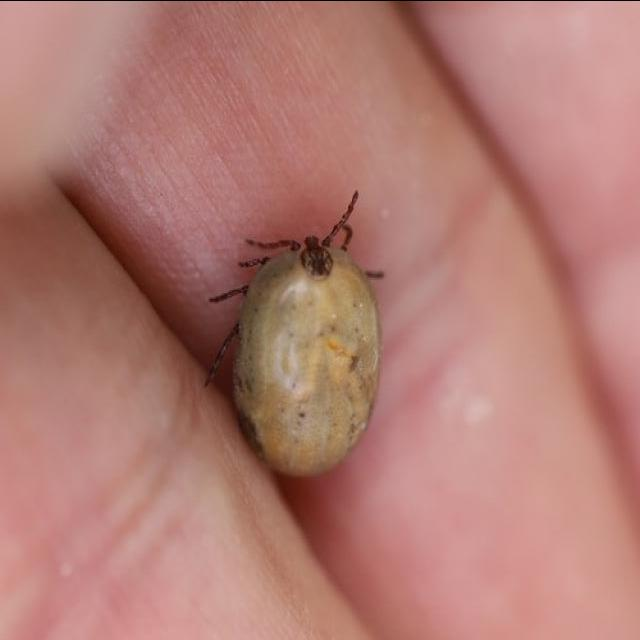Dermacentor Reticulatus-F-Fed: (205, 187, 385, 476)
